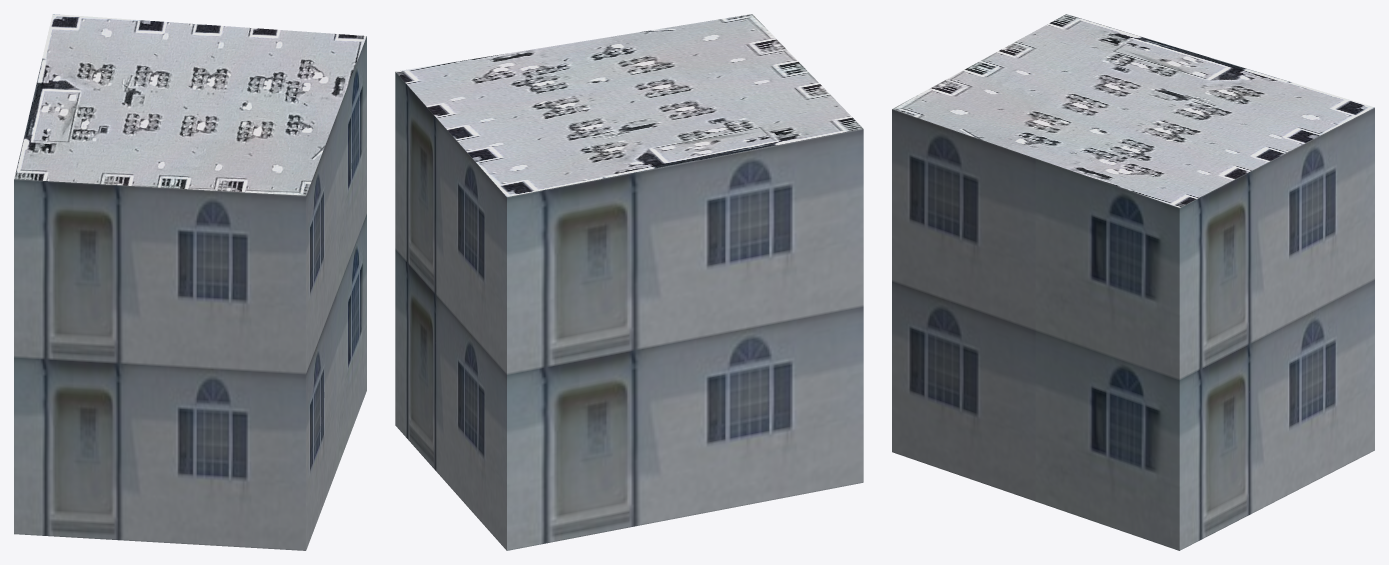
File: ResTex__3296.fbx
3 renders of one model, left to right at view 1: azimuth 30°, elevation 25°; view 2: azimuth 150°, elevation 25°; view 3: azimuth 270°, elevation 25°, orthographic. The views are drawn at different scales.
Visible parts, largest first — view 1: CityEngineMaterial_17_m, CityEngineMaterial_8_m; view 2: CityEngineMaterial_17_m, CityEngineMaterial_8_m; view 3: CityEngineMaterial_17_m, CityEngineMaterial_8_m.
Boxes of the visible parts, x1,y1,x2,y2 form: CityEngineMaterial_17_m: (14, 36, 366, 550); CityEngineMaterial_8_m: (14, 14, 366, 195); CityEngineMaterial_17_m: (395, 72, 863, 550); CityEngineMaterial_8_m: (395, 14, 863, 196); CityEngineMaterial_17_m: (892, 107, 1374, 550); CityEngineMaterial_8_m: (892, 14, 1374, 207).
Bounding box in the file's own units: 7.27 × 6 × 7.65.
2 materials, 2 textured.
